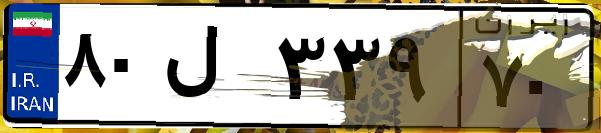0: (525, 38, 570, 115), (110, 28, 158, 98)
3: (270, 28, 330, 110), (330, 28, 385, 110)
7: (475, 38, 525, 113)
8: (57, 26, 110, 100)
9: (385, 28, 445, 110)
ل: (158, 20, 270, 120)
